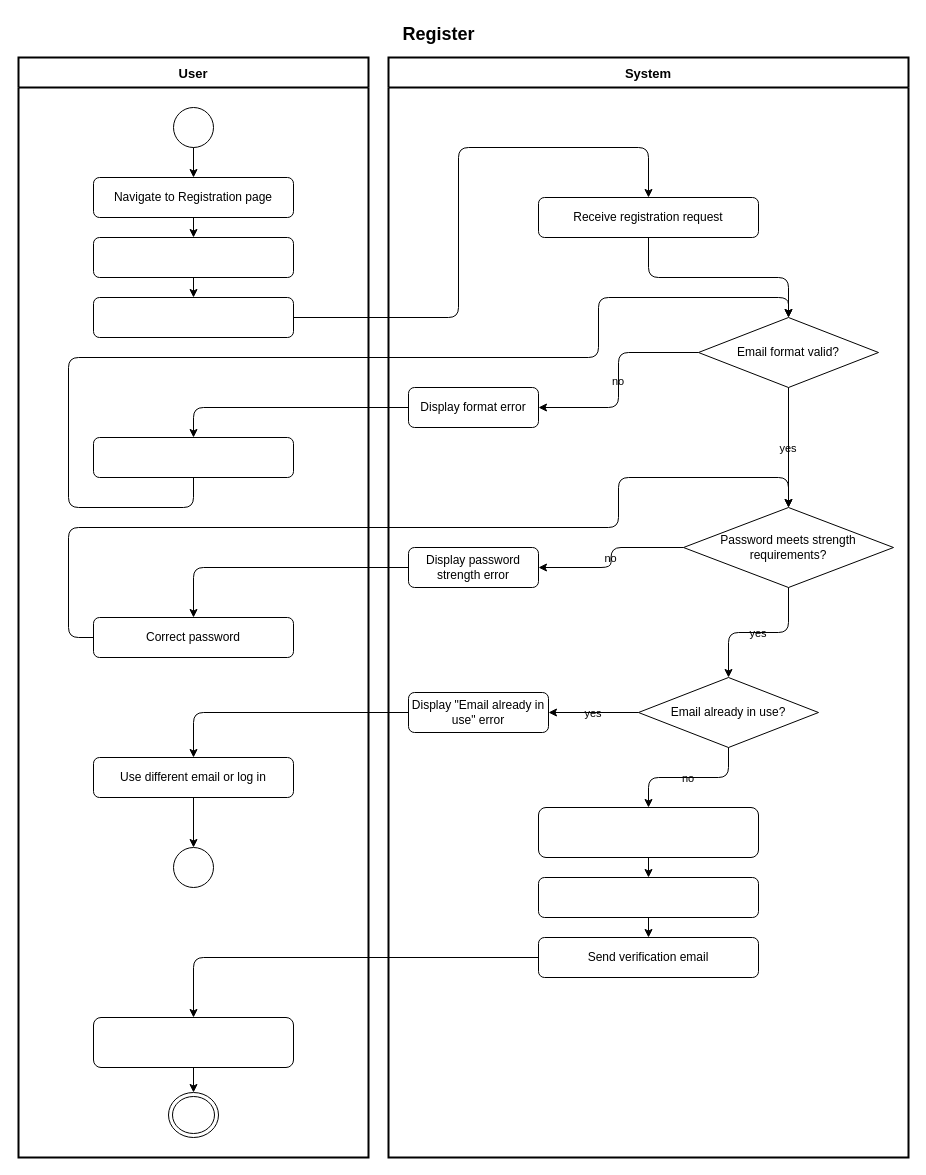
Image size: 926x1175. Some labels were removed from this diagram. The centre of each missing label's shape, as x and y in pixels:
Click "Register": (193,317)
Correct email: (193,457)
Create User record (email_verified=false, role=student): (648,832)
Enter Email and Password: (193,257)
Generate 6-digit OTP code: (648,897)
See confirmation message "Please verify your email": (193,1042)
